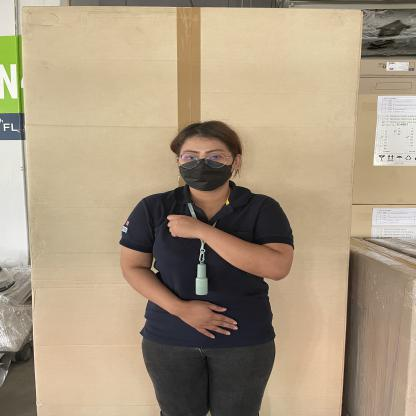Sadness: (159, 204, 300, 287)
